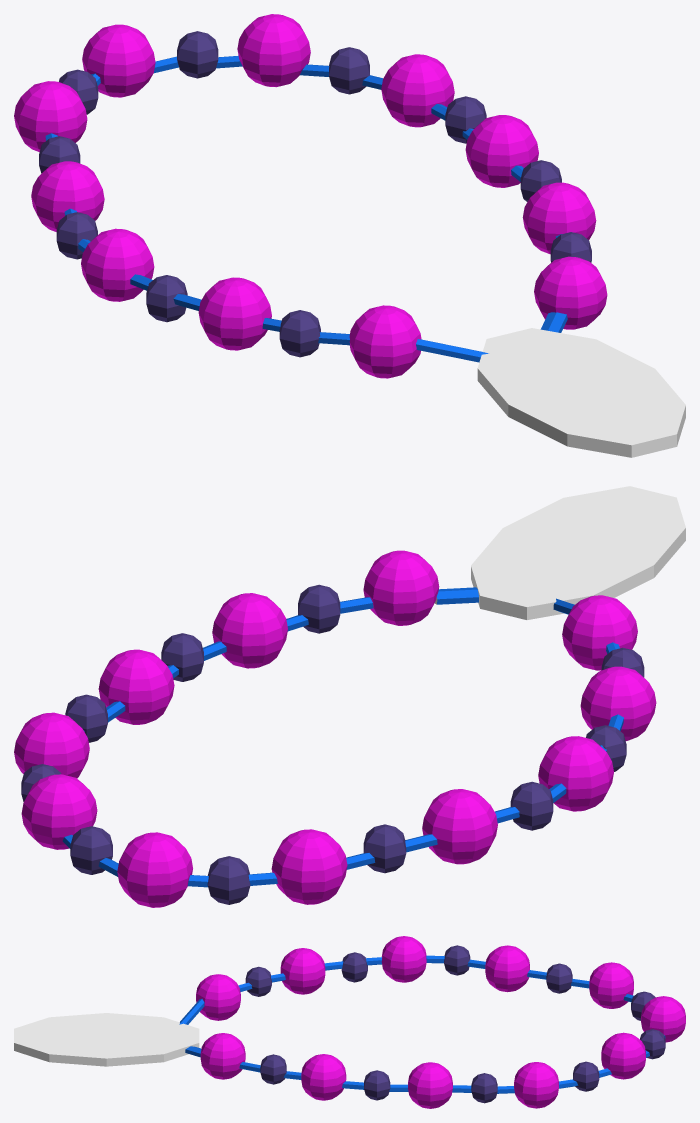
The model's file is Braclet.fbx.
3 views of the same model, one above another, from view 1: azimuth 30°, elevation 25°; view 2: azimuth 150°, elevation 25°; view 3: azimuth 270°, elevation 25° (orthographic). The views are drawn at different scales.
Visible parts, largest first — view 1: Braclet; view 2: Braclet; view 3: Braclet.
Part boxes in pixels (left/top/right/bottom): Braclet: left=14, top=14, right=685, bottom=457; Braclet: left=14, top=486, right=685, bottom=907; Braclet: left=14, top=936, right=685, bottom=1108.
Size of the model in its own units: 79.89 by 12.31 by 155.
